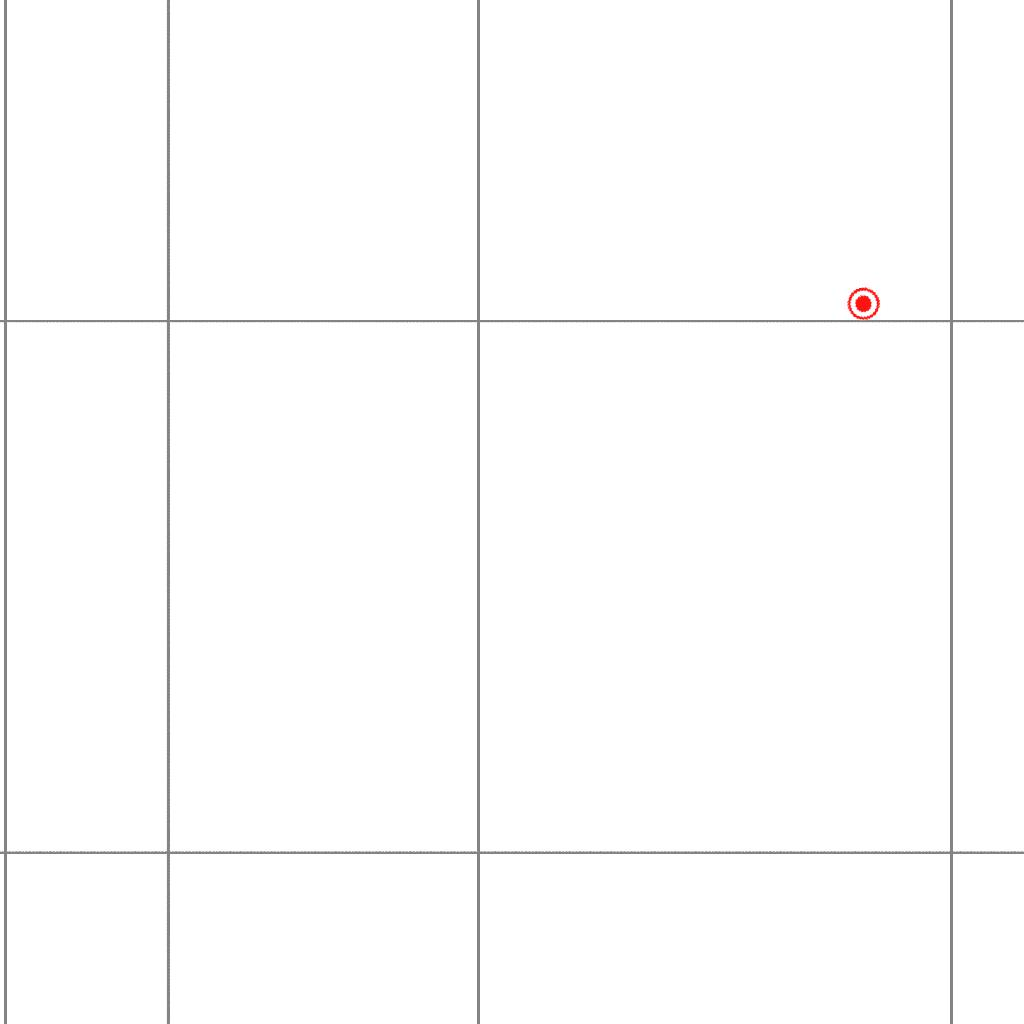Taster: (842, 283, 885, 326)
